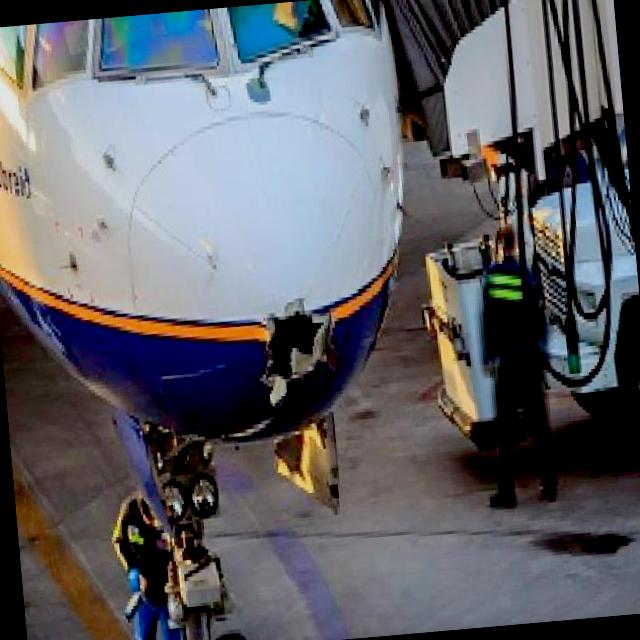crack: (242, 292, 344, 402)
